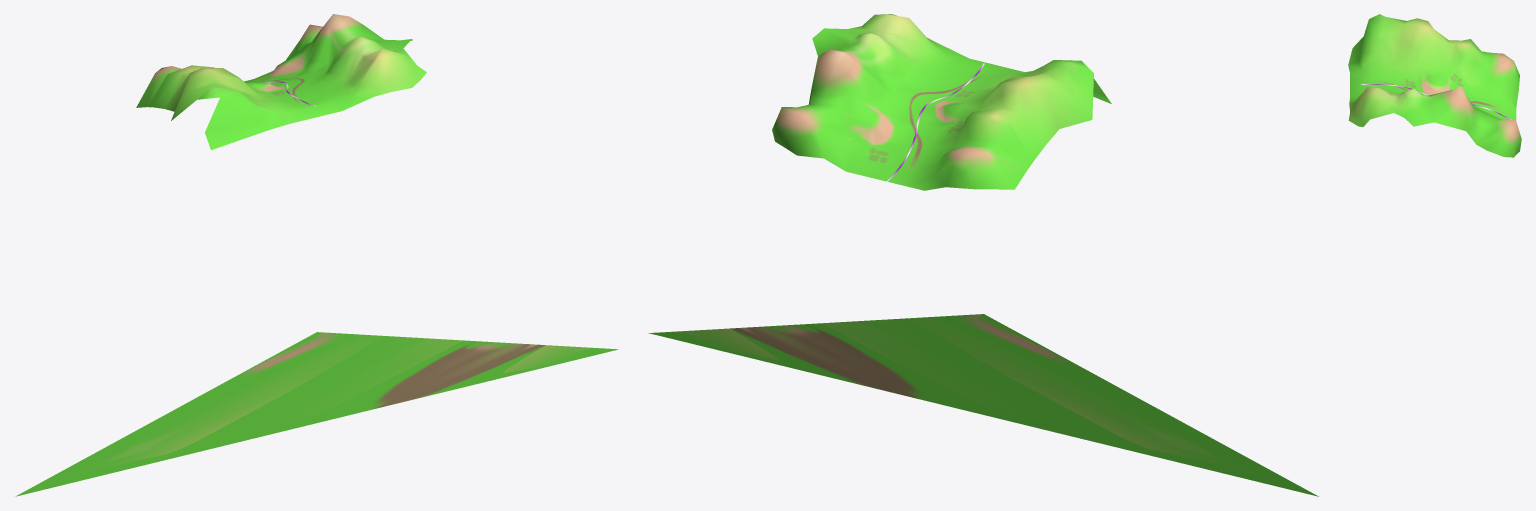
The model's file is L_Yhan1.fbx.
3 renders of one model, left to right at view 1: azimuth 30°, elevation 25°; view 2: azimuth 150°, elevation 25°; view 3: azimuth 270°, elevation 25°, orthographic. The views are drawn at different scales.
Parts seen in each view (by area): view 1: Obj, LocYhan1; view 2: LocYhan1, Obj; view 3: LocYhan1.
Part boxes in pixels (x1,y1,x2,y2): Obj: (15,332,618,496); LocYhan1: (136,14,426,150); LocYhan1: (772,14,1111,190); Obj: (648,314,1318,496); LocYhan1: (1348,14,1521,157).
Size of the model in its own units: 200 by 111 by 55.9.
